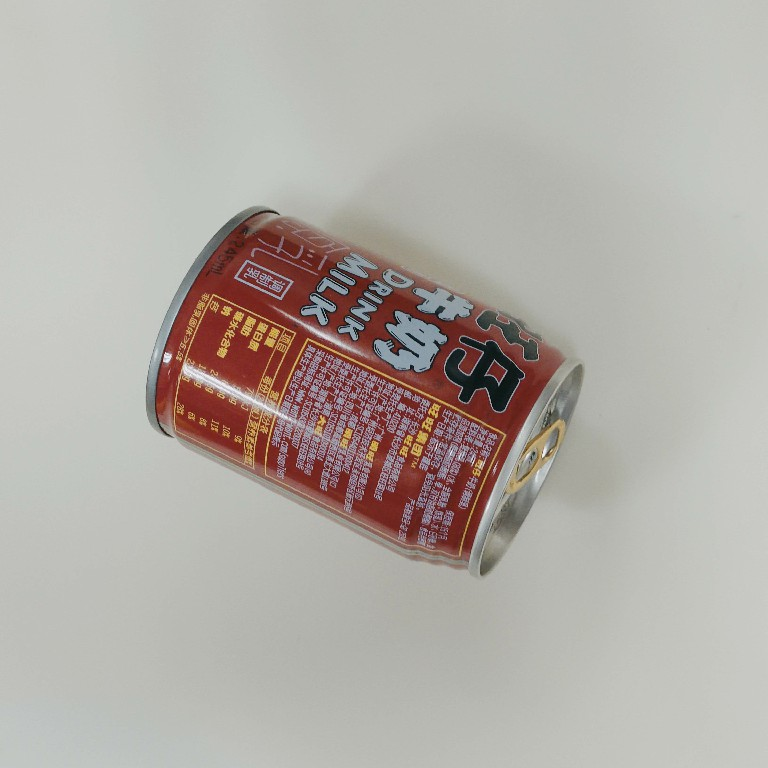can: (143, 203, 585, 583)
